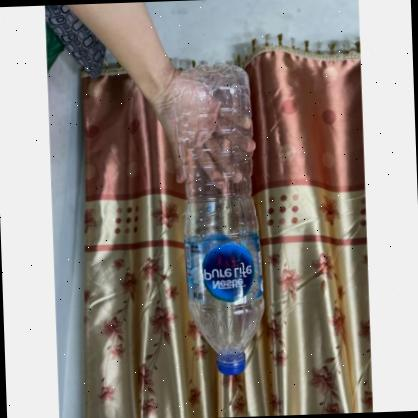bottle: (172, 62, 268, 378)
cap: (216, 353, 250, 377)
label: (185, 232, 264, 305)
